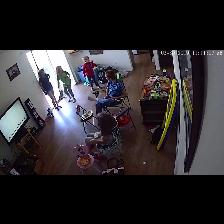person: (88, 70, 127, 113), (85, 113, 115, 154), (39, 70, 61, 110), (56, 66, 75, 102), (83, 57, 101, 91)
